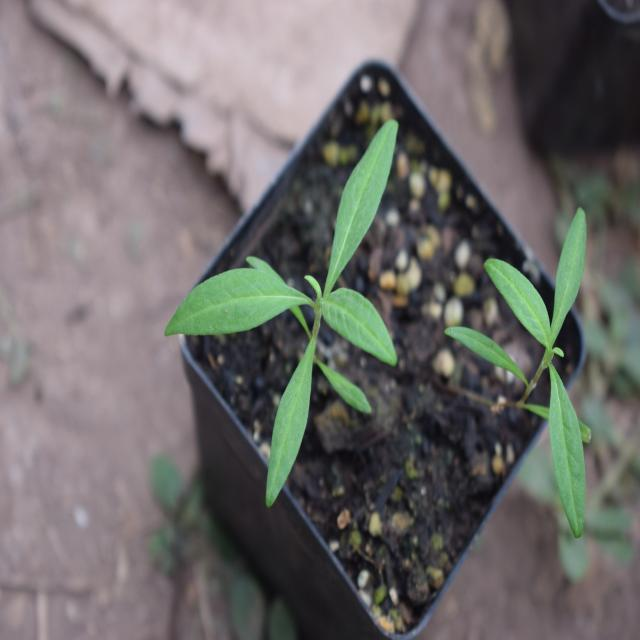white_smart_weed: (170, 127, 439, 481), (469, 183, 623, 545)
